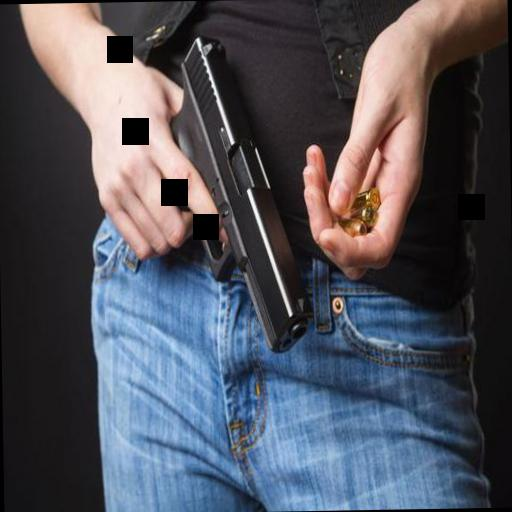Handgun: (133, 29, 314, 367)
